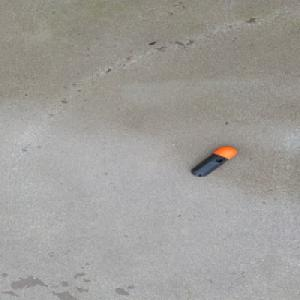PlasticPart: (189, 145, 238, 176)
